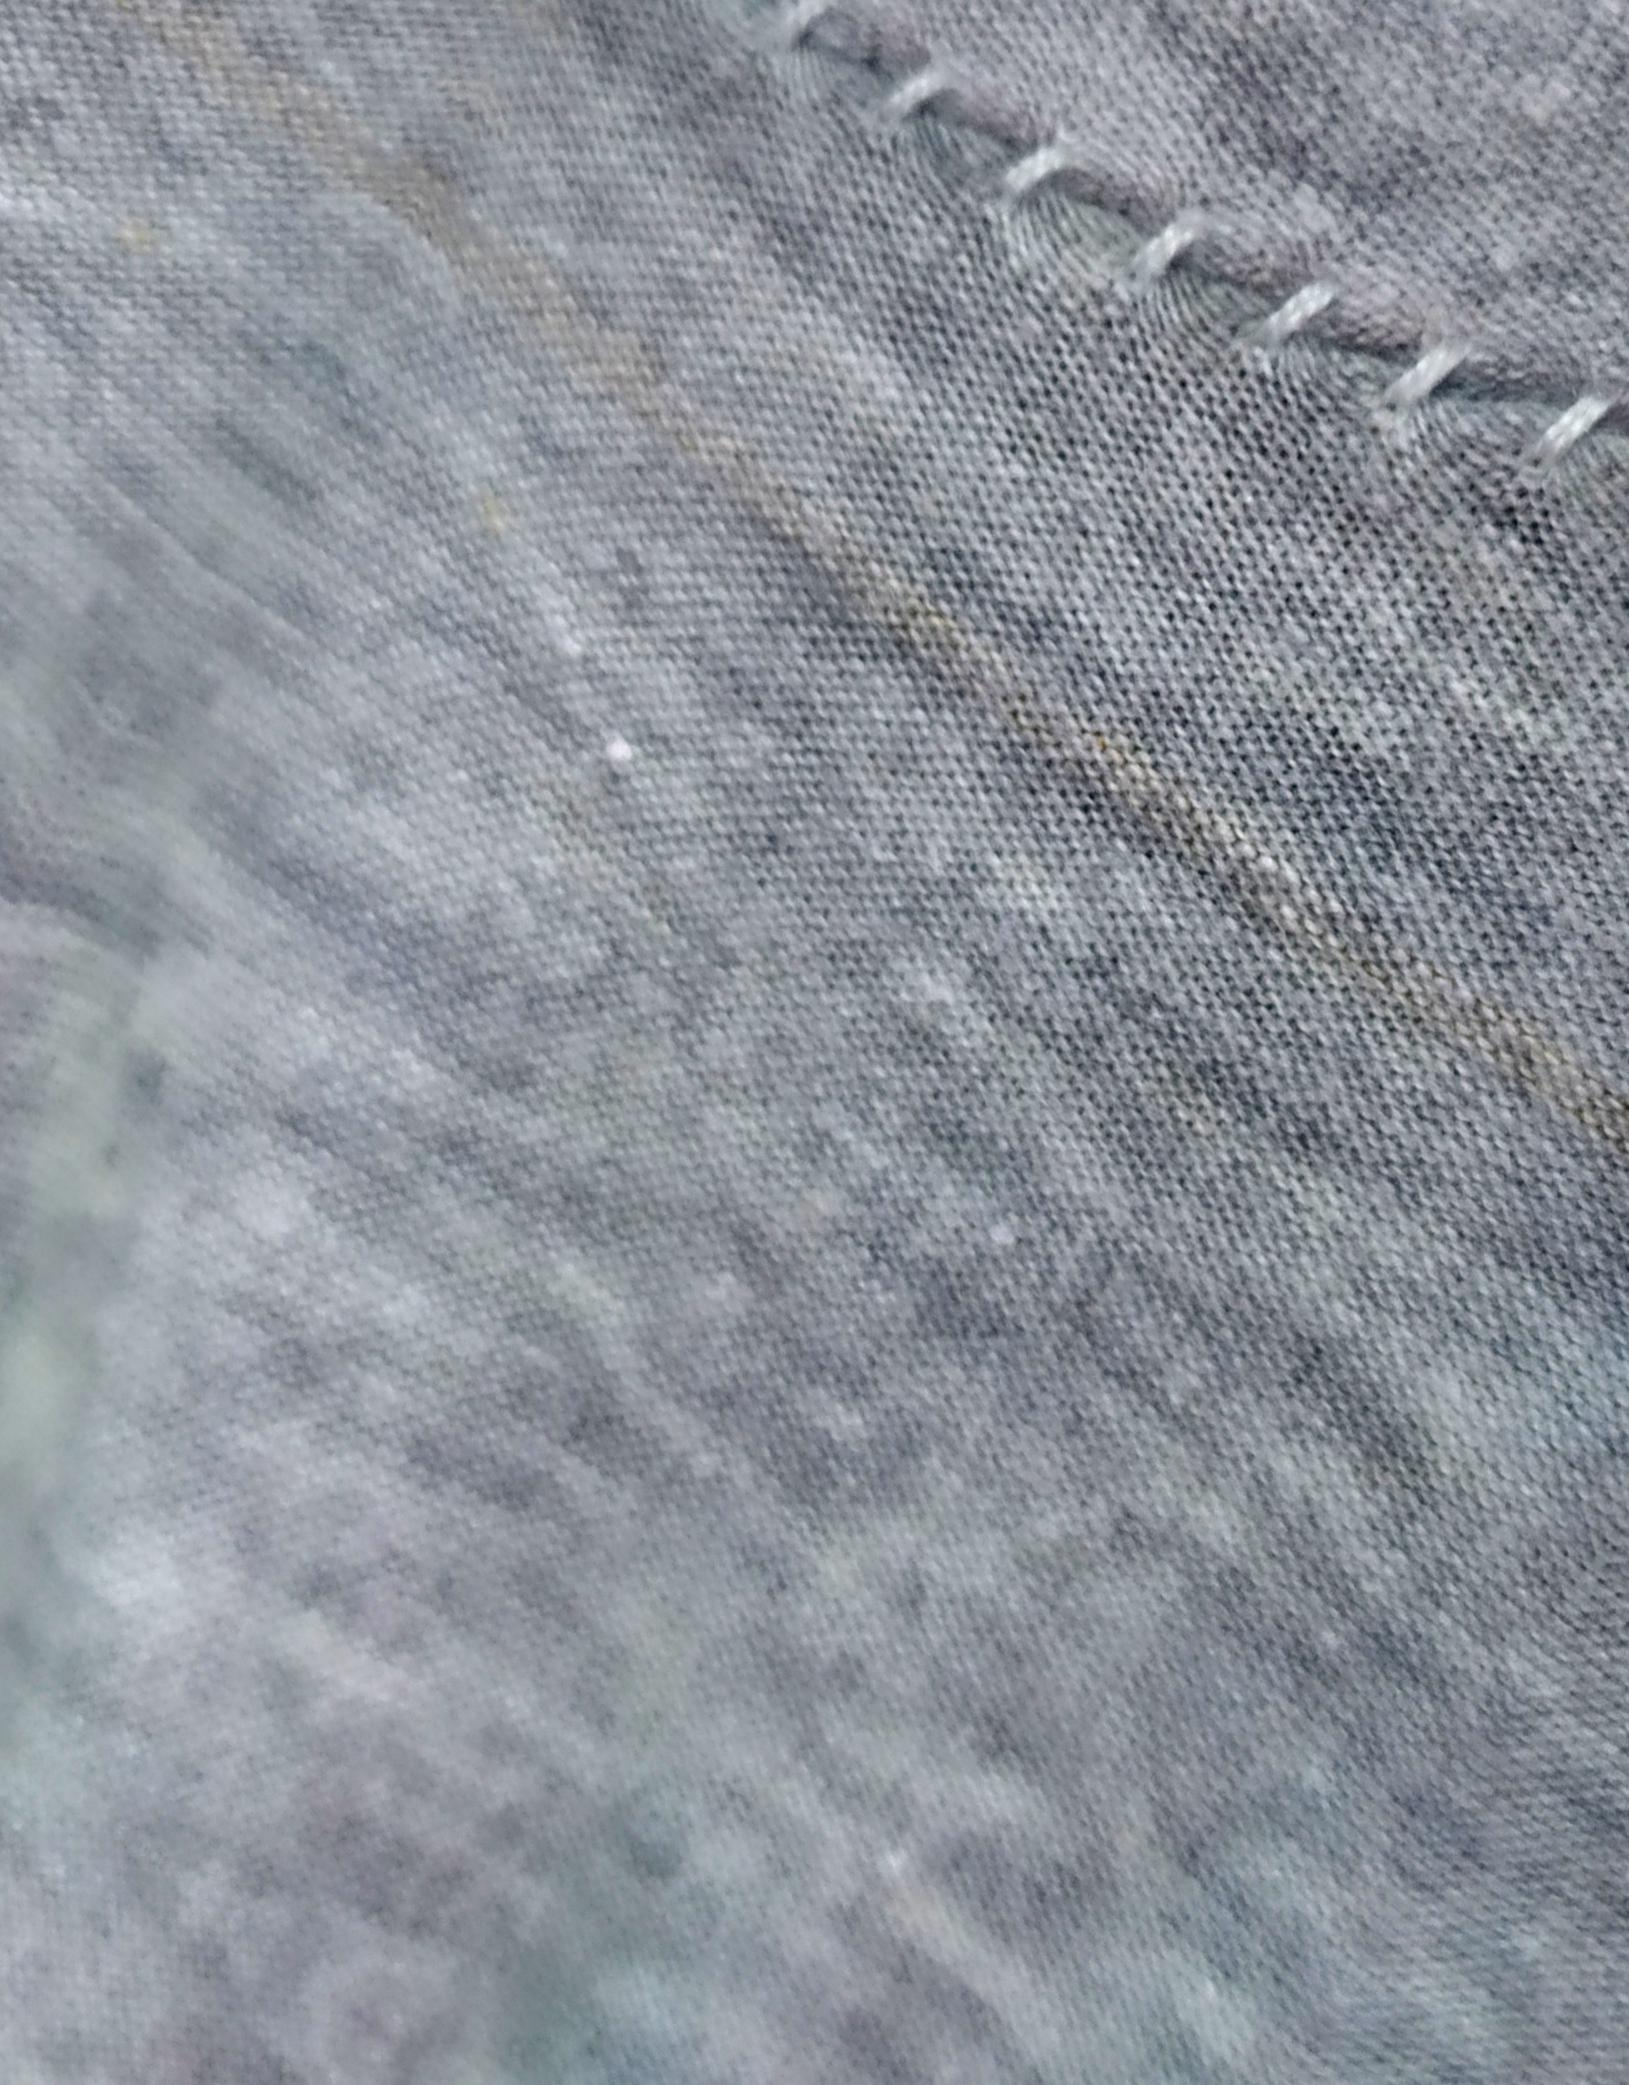slub: (771, 5, 1629, 467)
